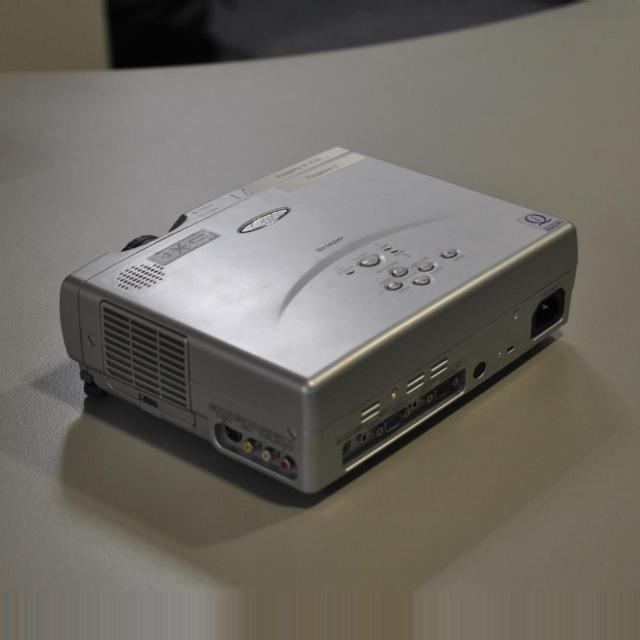Projector: (59, 145, 579, 495)
